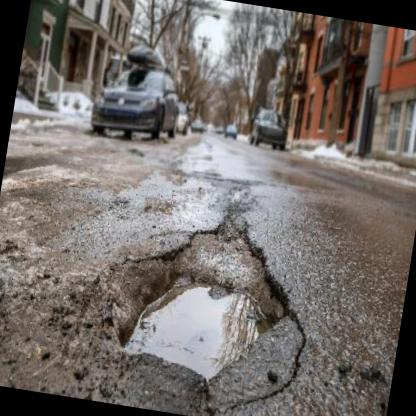pothole: (106, 209, 302, 390), (2, 146, 52, 186)
